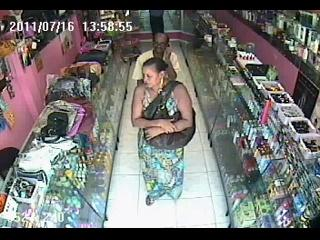Normal: (131, 57, 196, 206), (132, 33, 179, 86), (76, 50, 108, 66)
